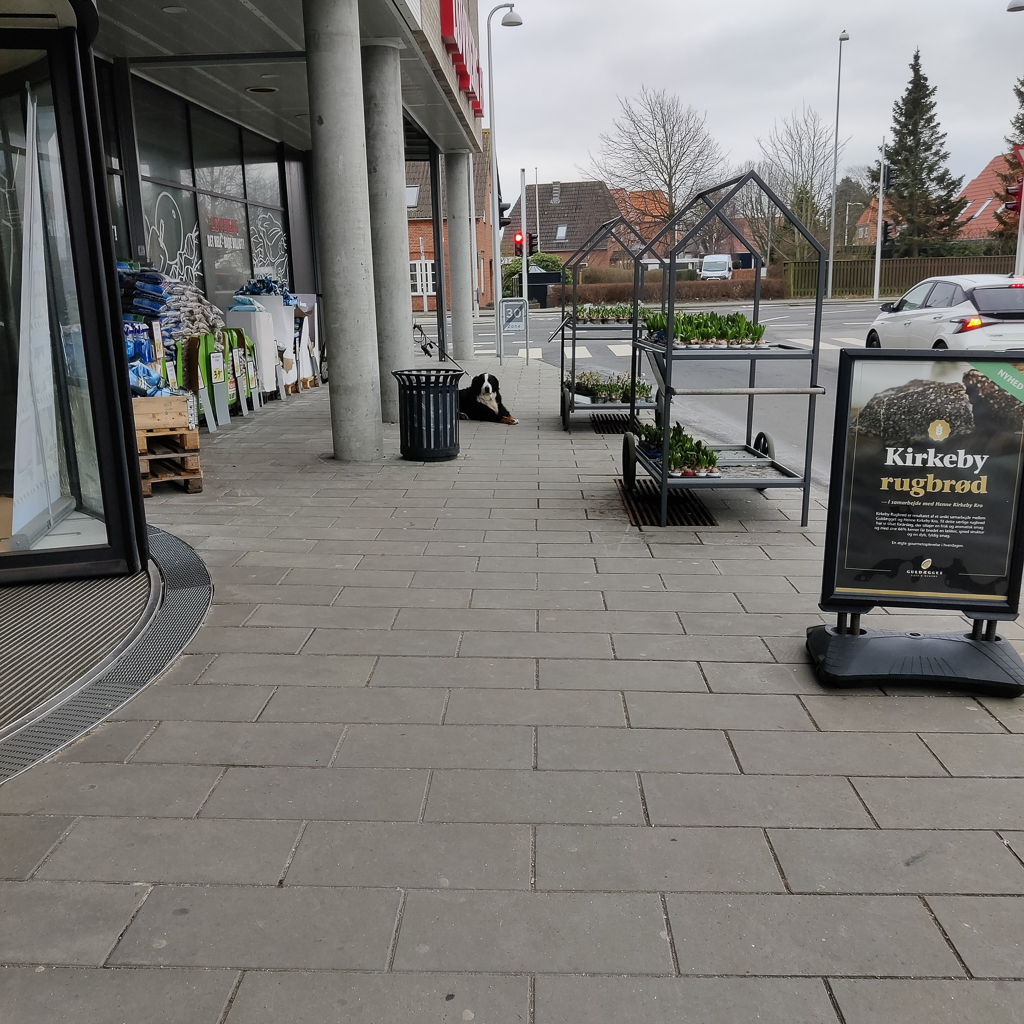Dog: (455, 367, 523, 430)
